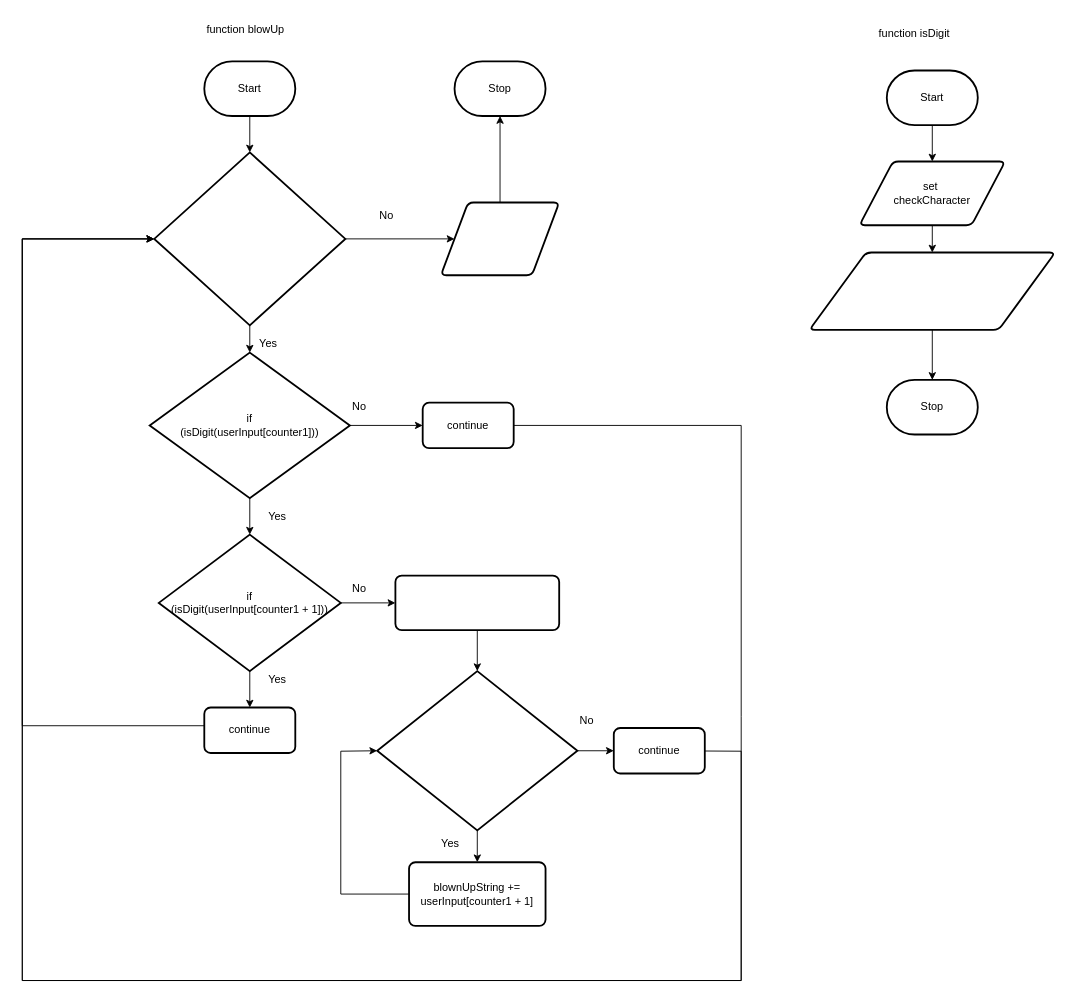
Some shapes in this 1072 by 1004 pixel diagram are drawn without their labels. Here are the shapes that lost their labels. From the top down, the centre of each, then its label:
At point (249, 238): "for (counter1 = 0; counter1 < userInput.length; counter1++)".
At point (500, 238): "return blownUpString".
At point (932, 290): "return !isNaN(parseInt(checkCharacter))".
At point (477, 602): "multiplier = parseInt(userInput[counter1])".
At point (477, 750): "for (counter2 = 0; counter2 < multiplier; counter2++)".
